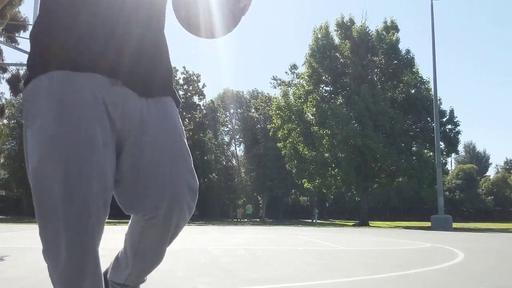ball: (172, 0, 246, 38)
human: (22, 0, 251, 288)
